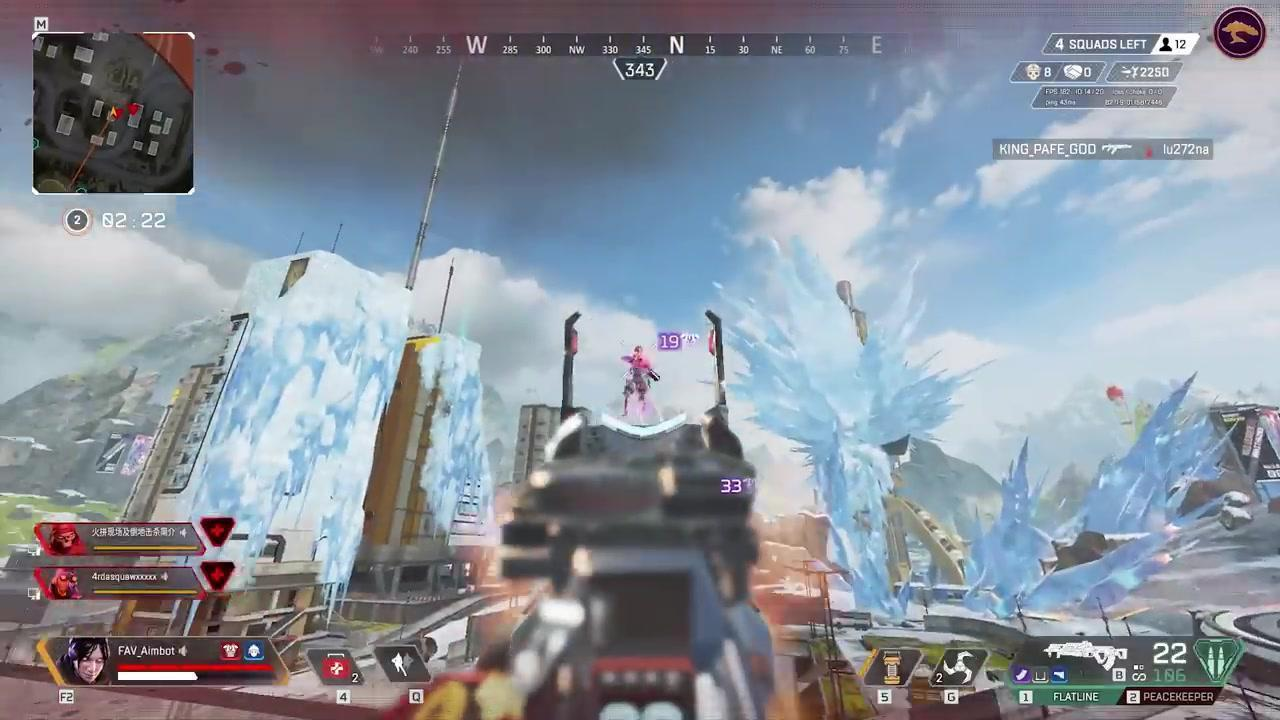avatar: (618, 343, 653, 418)
